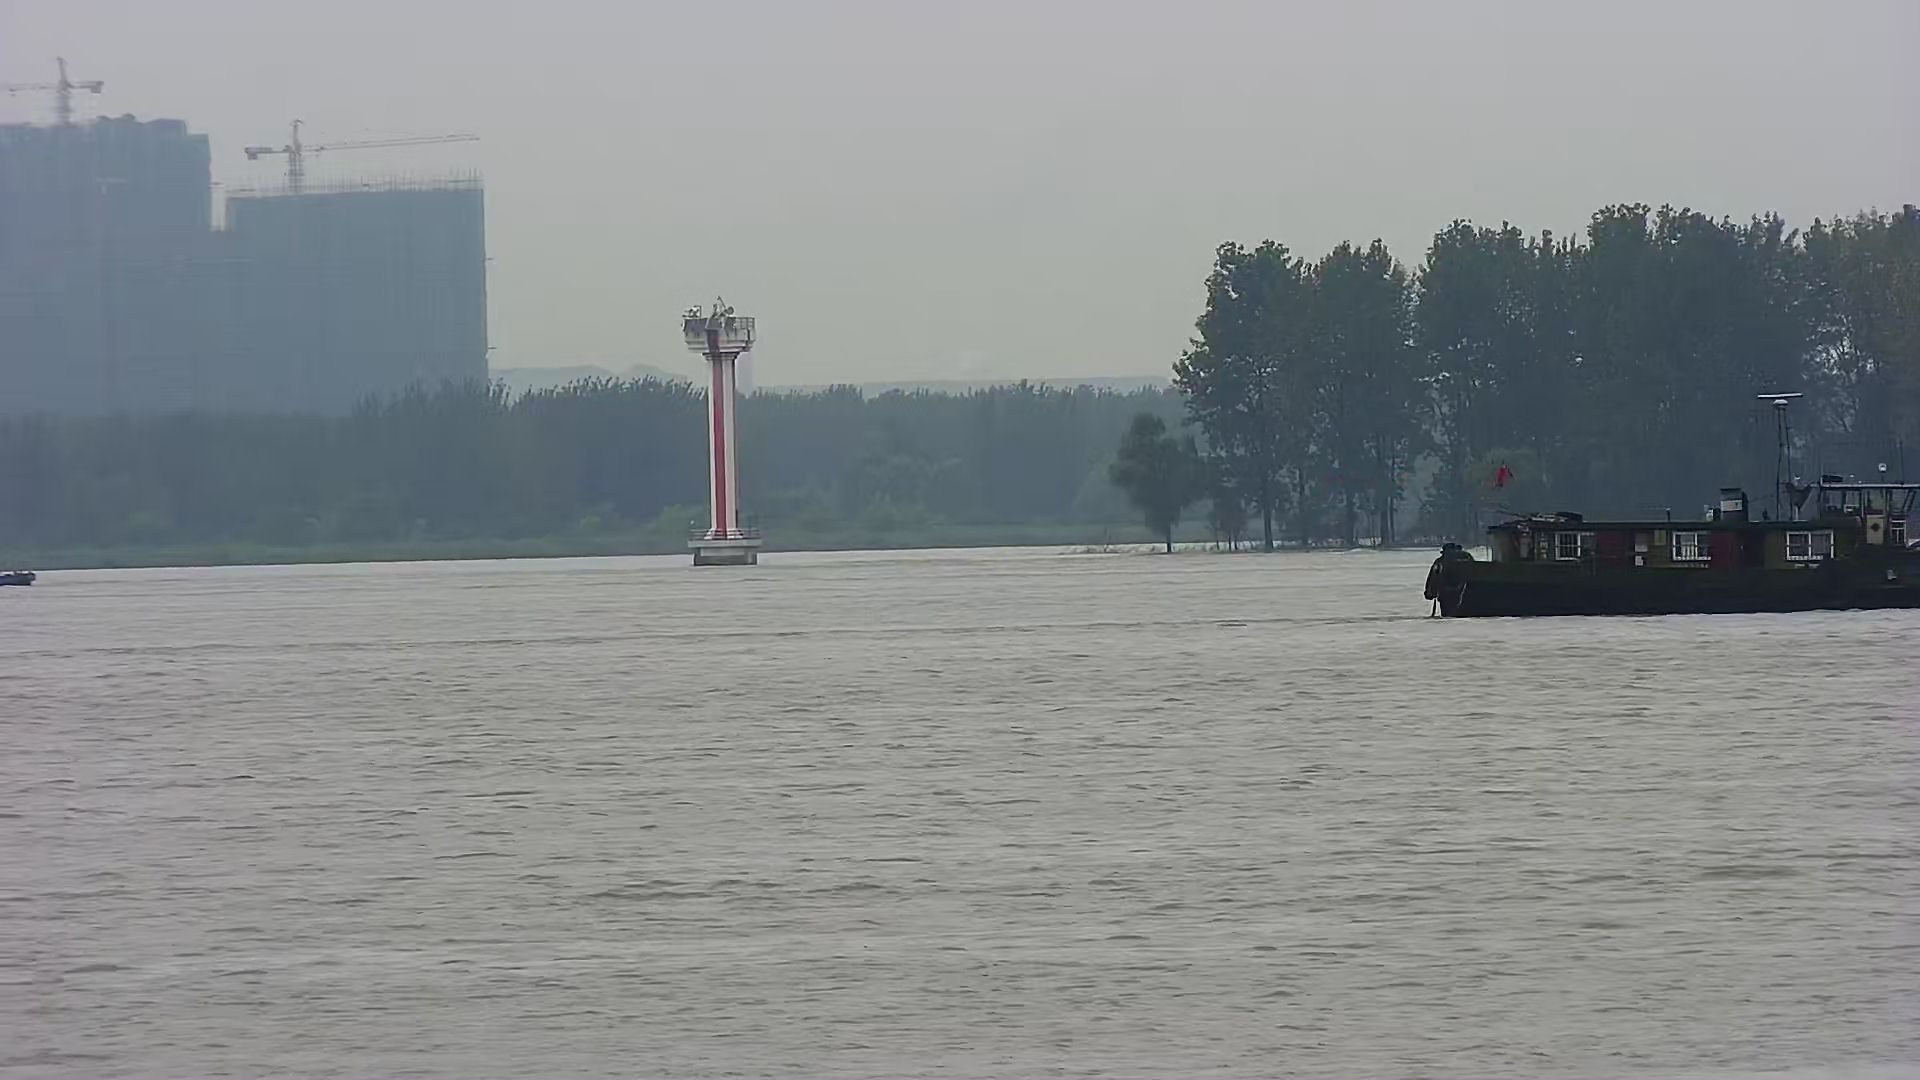boat: (1, 558, 36, 588)
platform: (669, 295, 775, 574)
ship: (1416, 386, 1920, 622)
